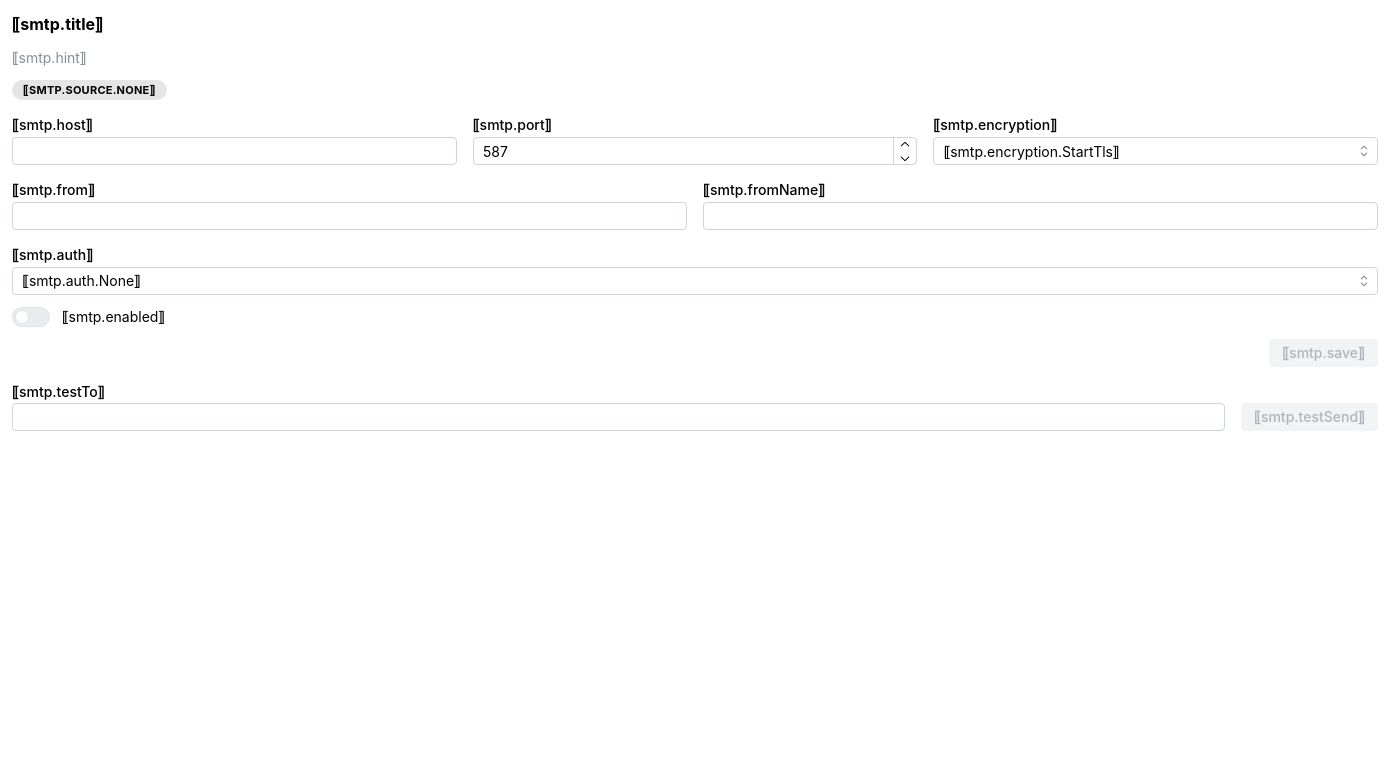
Test: SmtpSettingsPanel — стани › подвійний клік «Зберегти», поки PUT у дорозі, — рівно один PUT
The image size is (1390, 780).
Type "relay.corp.example" into the field labelled "⟦smtp.host⟧" at (234, 151), box [12,137,457,165]
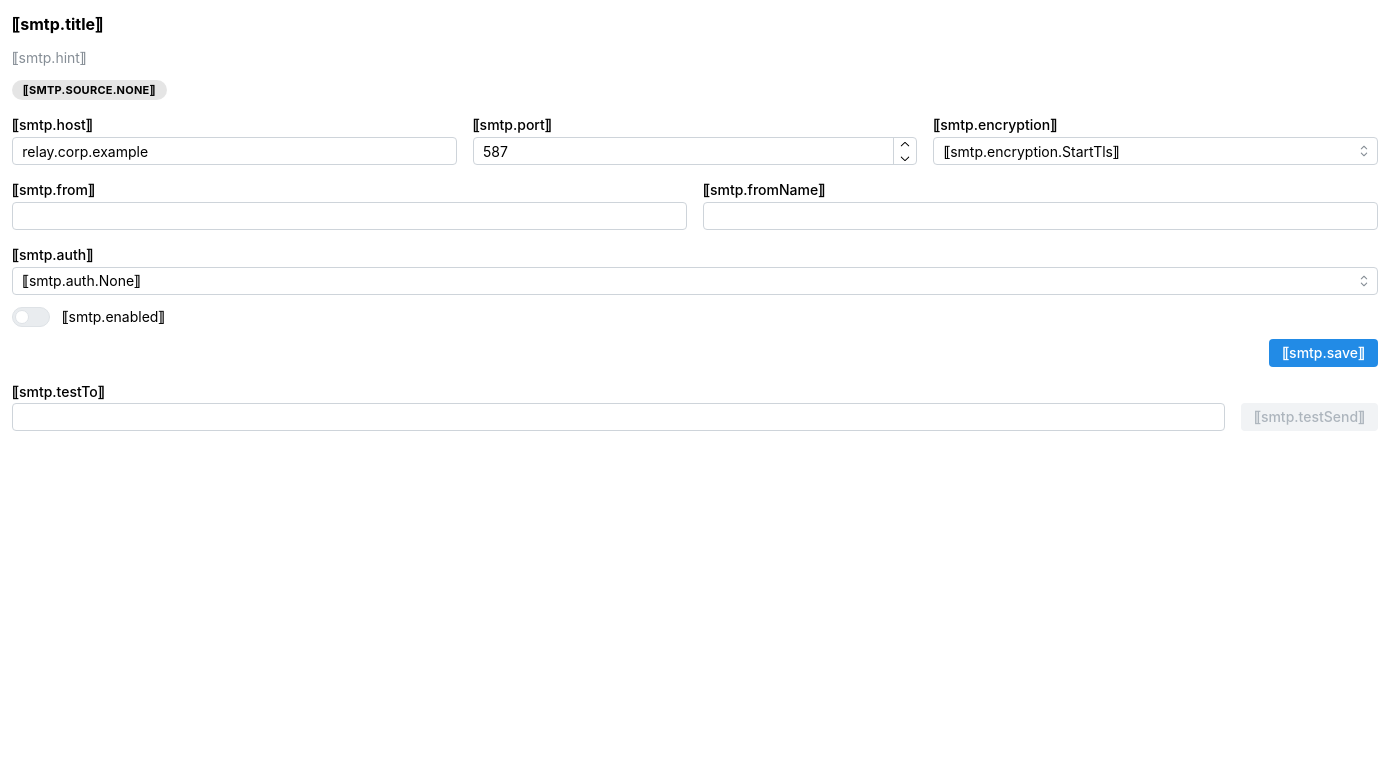
Click the button "⟦smtp.save⟧" at (1324, 353), box [1269,339,1378,367]
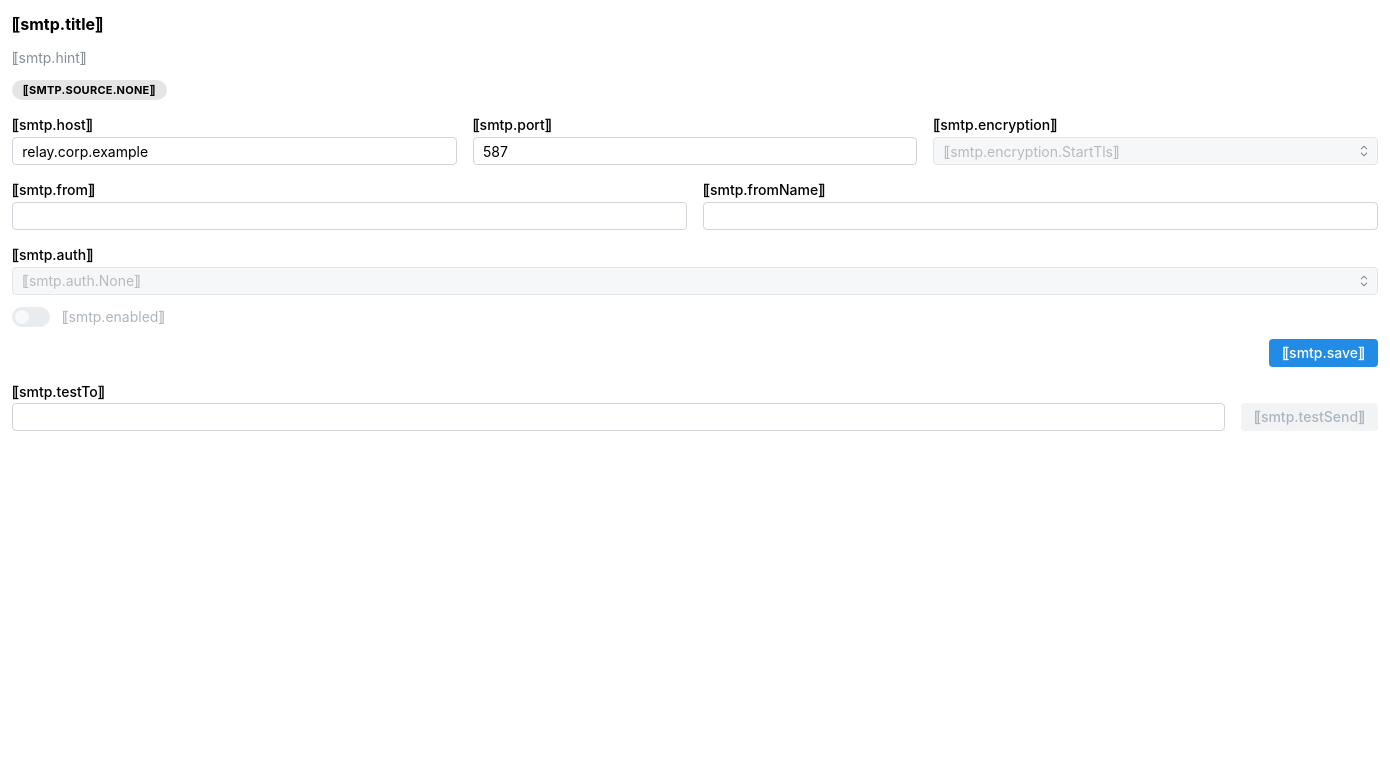
expect the button "⟦smtp.save⟧" is enabled: met
Click the button "⟦smtp.save⟧" at (1324, 353), box [1269,339,1378,367]
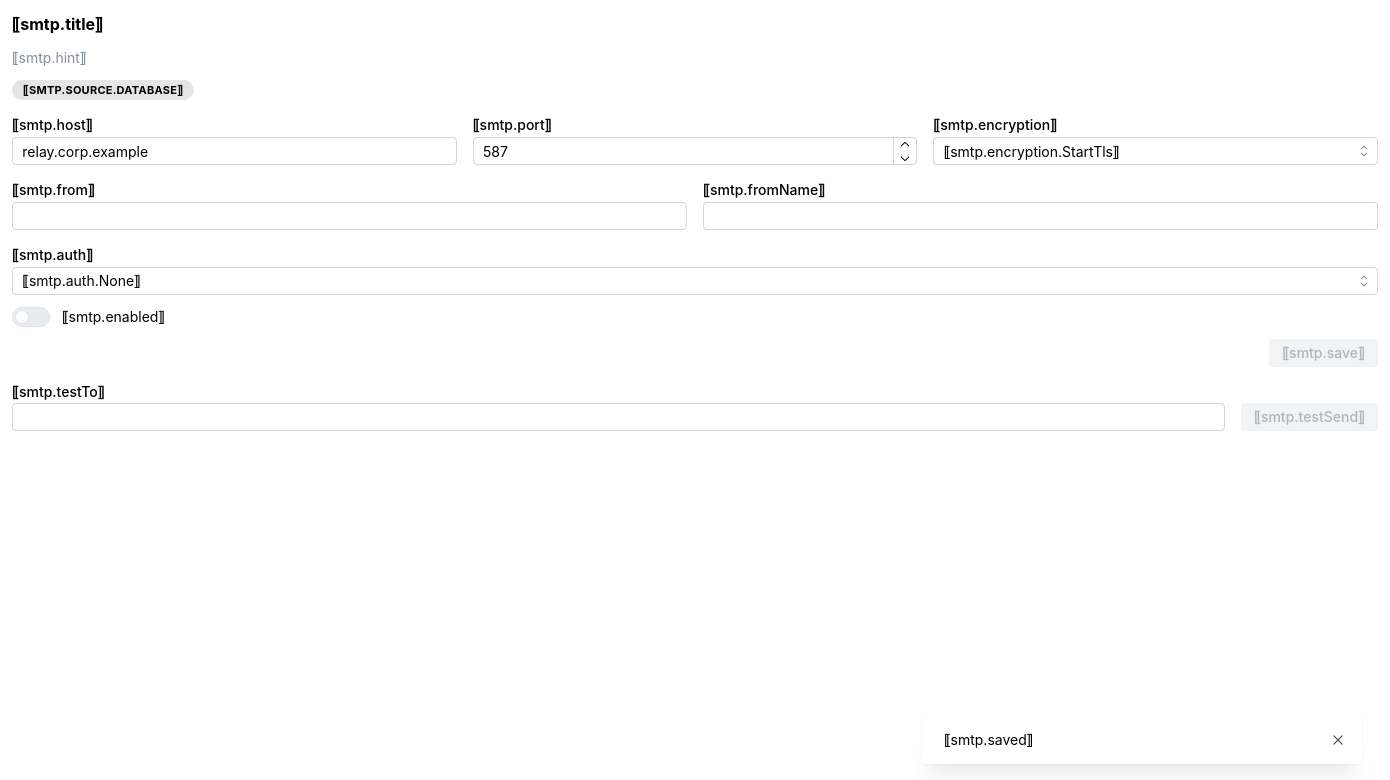
expect the button "⟦smtp.save⟧" is disabled: met, box [1269,339,1378,367]
